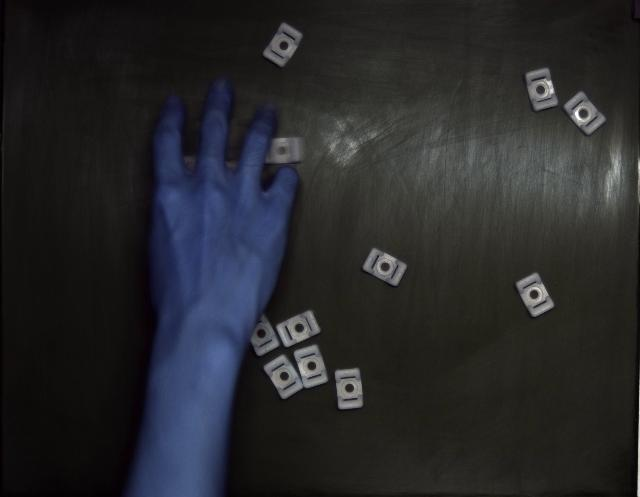first_side: (562, 91, 606, 136), (262, 22, 302, 68), (525, 68, 559, 111)
